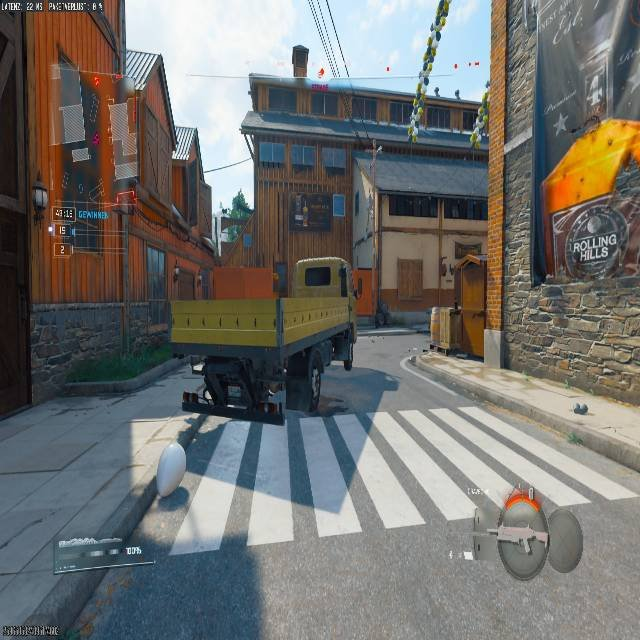player: (219, 191, 251, 252), (374, 299, 389, 328)
